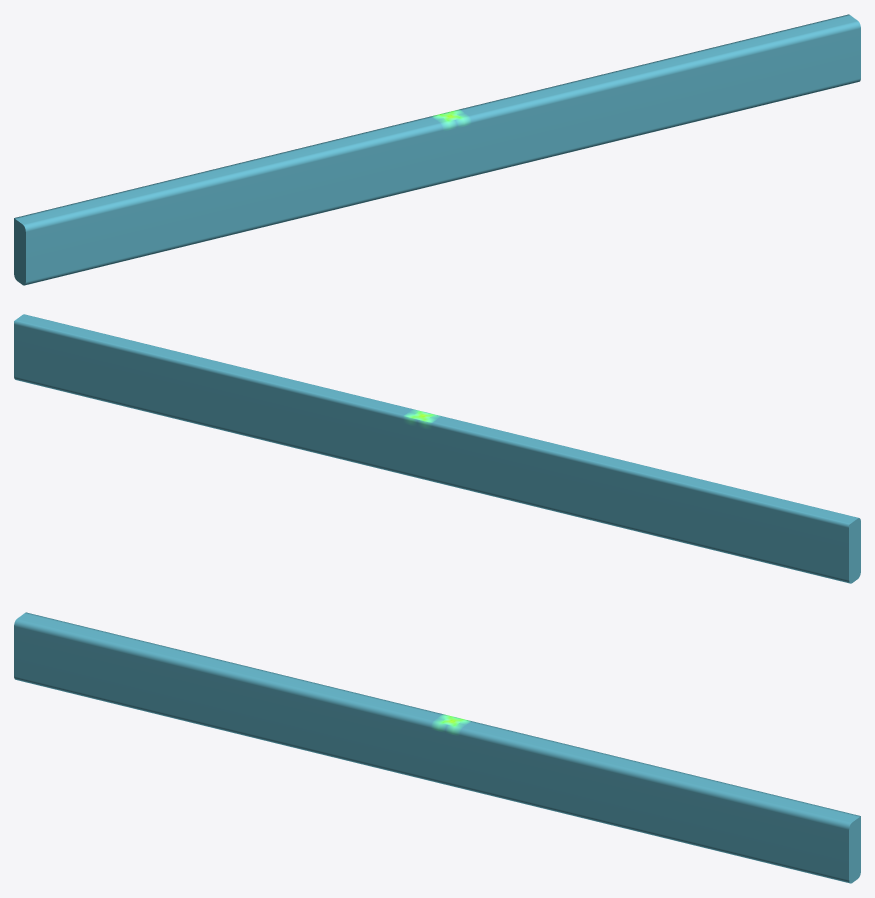
File: shelfSkirt.glb
The picture shows the model from 3 angles, top to bottom: view 1: azimuth 30°, elevation 25°; view 2: azimuth 150°, elevation 25°; view 3: azimuth 330°, elevation 25°; orthographic projection.
Parts seen in each view (by area): view 1: roofSkirt; view 2: roofSkirt; view 3: roofSkirt.
Boxes of the visible parts, x1,y1,x2,y2 form: roofSkirt: (14,14,860,285); roofSkirt: (14,314,860,583); roofSkirt: (14,612,860,883).
Bounding box in the file's own units: 7.93 × 0.5504 × 0.1954.
1 material, 1 textured.
